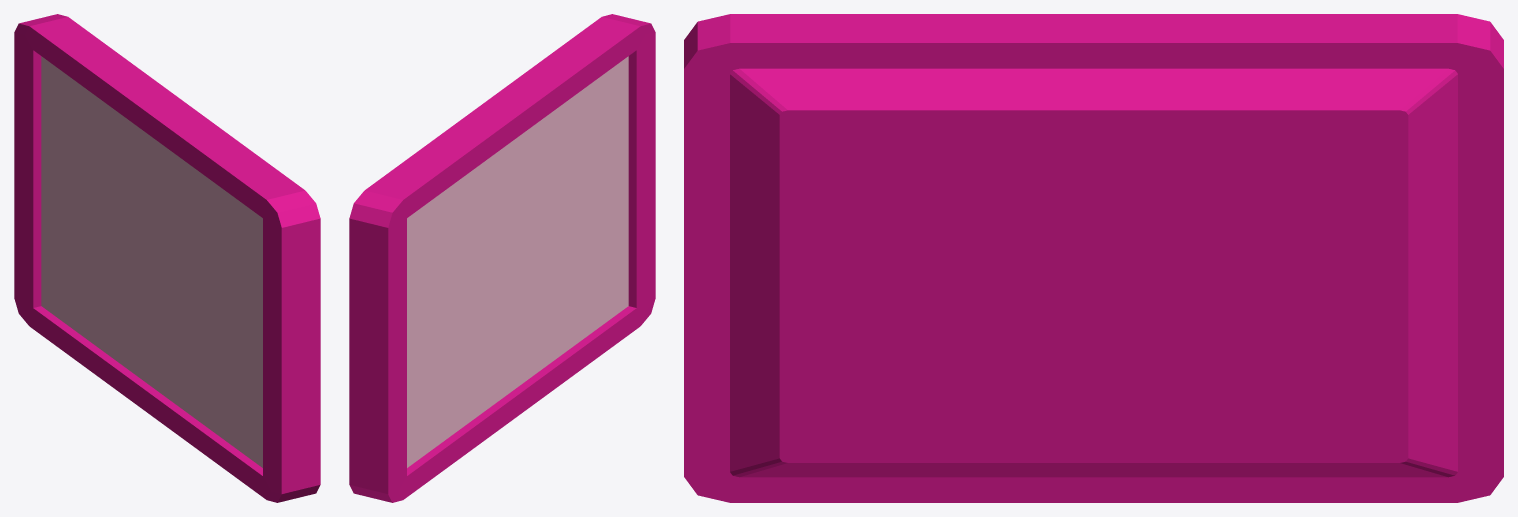
File: pancarte_horizontale.fbx
3 views of the same model, side by side, from view 1: azimuth 30°, elevation 25°; view 2: azimuth 150°, elevation 25°; view 3: azimuth 270°, elevation 25° (orthographic). The views are drawn at different scales.
Parts seen in each view (by area): view 1: pancarte_horizontale; view 2: pancarte_horizontale; view 3: pancarte_horizontale.
Boxes of the visible parts, x1=… form: pancarte_horizontale: x1=14, y1=14, x2=320, y2=502; pancarte_horizontale: x1=349, y1=14, x2=655, y2=502; pancarte_horizontale: x1=684, y1=14, x2=1503, y2=502.
Bounding box in the file's own units: 9.78 × 49.12 × 79.32.
